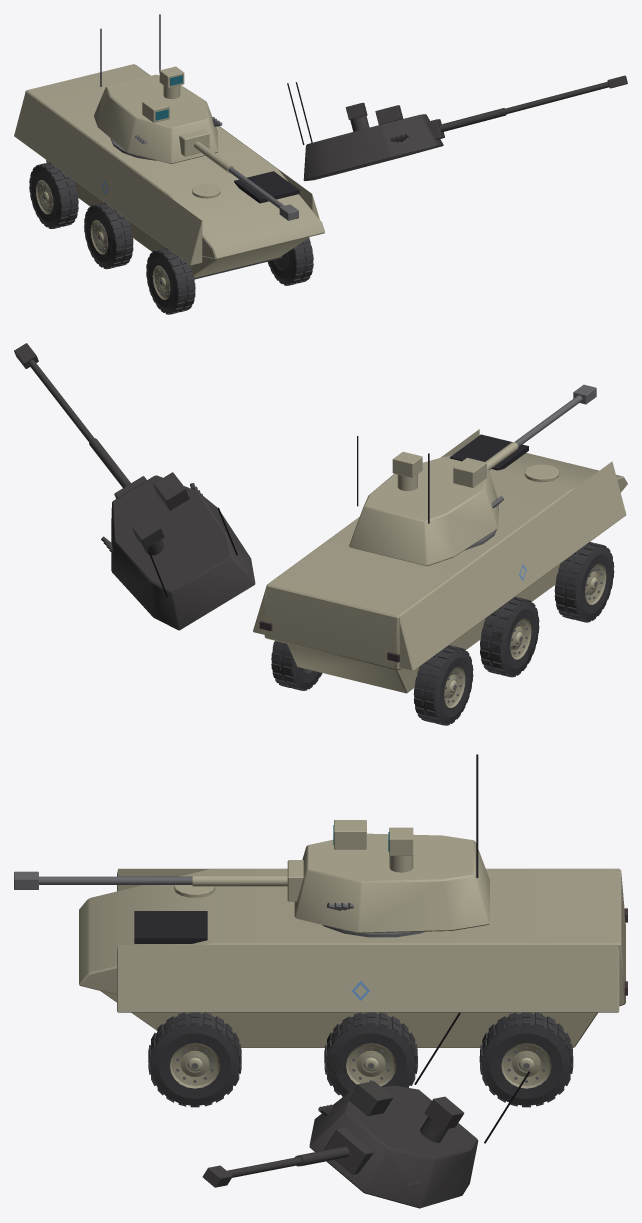
The model's file is directFire__badak.glb.
3 views of the same model, one above another, from view 1: azimuth 30°, elevation 25°; view 2: azimuth 150°, elevation 25°; view 3: azimuth 270°, elevation 25° (orthographic). The views are drawn at different scales.
Visible parts, largest first — view 1: Hull_Mesh, Turret_Mesh, Wreck, Wheel_L0_Mesh, Wheel_L2_Mesh, Wheel_L1_Mesh, Gun_Mesh, Wheel_R2_Mesh; view 2: Hull_Mesh, Wreck, Turret_Mesh, Wheel_L0_Mesh, Wheel_L2_Mesh, Wheel_L1_Mesh, Wheel_R0_Mesh, Gun_Mesh; view 3: Hull_Mesh, Turret_Mesh, Wreck, Wheel_R2_Mesh, Wheel_R0_Mesh, Wheel_R1_Mesh, Gun_Mesh.
Part boxes in pixels (box(x1,y1,x2,y2)): Hull_Mesh: box(14, 64, 324, 279); Turret_Mesh: box(94, 14, 222, 163); Wreck: box(41, 75, 627, 268); Wheel_L0_Mesh: box(29, 162, 78, 228); Wheel_L2_Mesh: box(146, 248, 195, 314); Wheel_L1_Mesh: box(84, 202, 133, 269); Gun_Mesh: box(179, 129, 298, 220); Wheel_R2_Mesh: box(267, 238, 313, 285); Hull_Mesh: box(253, 429, 627, 693); Wreck: box(14, 343, 605, 725); Turret_Mesh: box(349, 436, 503, 566); Wheel_L0_Mesh: box(413, 645, 473, 725); Wheel_L2_Mesh: box(554, 542, 614, 622); Wheel_L1_Mesh: box(480, 596, 539, 677); Wheel_R0_Mesh: box(271, 640, 322, 690); Gun_Mesh: box(485, 384, 596, 470); Hull_Mesh: box(79, 868, 627, 1047); Turret_Mesh: box(294, 754, 489, 933); Wreck: box(191, 1012, 563, 1208); Wheel_R2_Mesh: box(148, 1012, 241, 1107); Wheel_R0_Mesh: box(479, 1012, 573, 1107); Wheel_R1_Mesh: box(324, 1012, 417, 1096); Gun_Mesh: box(14, 860, 303, 901).
Size of what is drawn, in the model's own units: 8.99 by 3.65 by 7.11.
